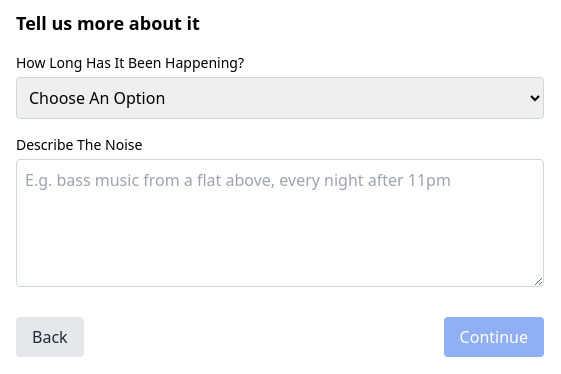
Noise details page › goes back to the noise type page and keeps the earlier answer
Click the button "Back" at point(50, 337), box [16,317,84,357]
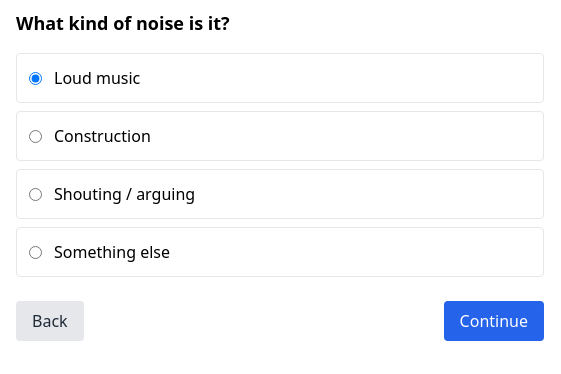
Expected: the radio button labelled "Loud music" is checked, [29,72,42,85]
